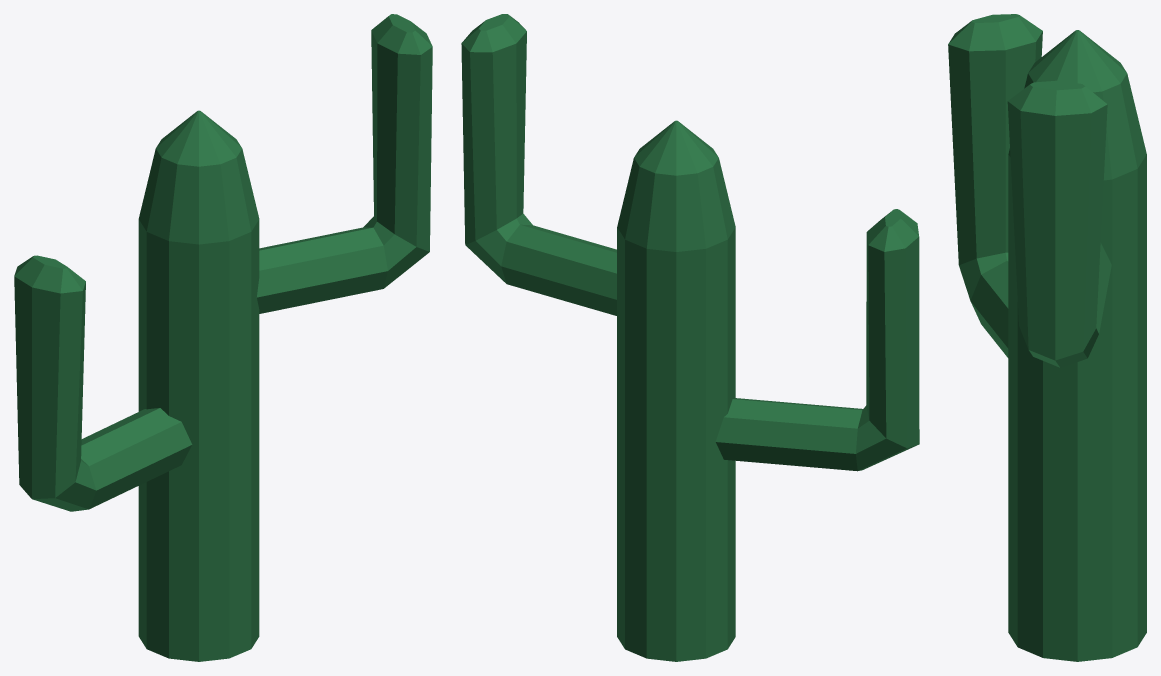
File: Cactus0.fbx
3 renders of one model, left to right at view 1: azimuth 30°, elevation 25°; view 2: azimuth 150°, elevation 25°; view 3: azimuth 270°, elevation 25°, orthographic. The views are drawn at different scales.
Parts seen in each view (by area): view 1: Cactus0; view 2: Cactus0; view 3: Cactus0.
Part boxes in pixels (box(x1,y1,x2,y2)): Cactus0: box(14, 14, 432, 661); Cactus0: box(461, 14, 919, 661); Cactus0: box(948, 14, 1146, 661).
Bounding box in the file's own units: 511 × 654 × 180.
